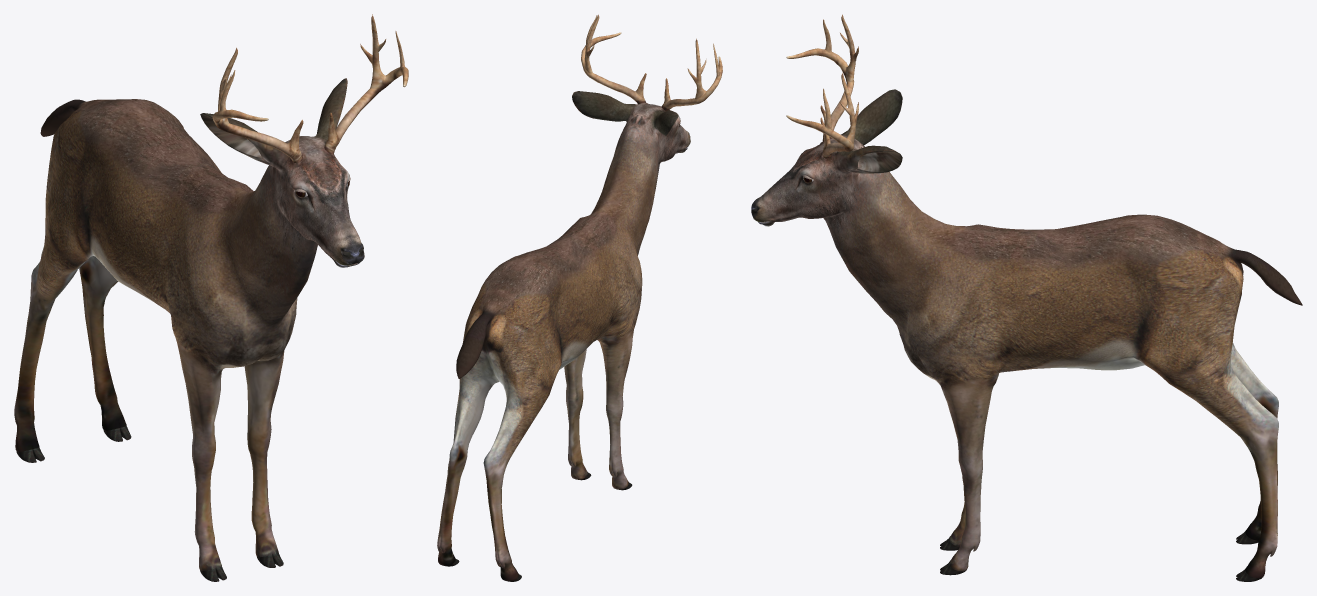
File: deer.glb
The picture shows the model from 3 angles, left to right: view 1: azimuth 30°, elevation 25°; view 2: azimuth 150°, elevation 25°; view 3: azimuth 270°, elevation 25°; orthographic projection. The views are drawn at different scales.
Parts seen in each view (by area): view 1: Pelvis_Mesh; view 2: Pelvis_Mesh; view 3: Pelvis_Mesh.
Part boxes in pixels (x1=…): Pelvis_Mesh: x1=14, y1=14, x2=408, y2=581; Pelvis_Mesh: x1=437, y1=14, x2=722, y2=581; Pelvis_Mesh: x1=751, y1=14, x2=1302, y2=581.
Bounding box in the file's own units: 0.175 × 0.5211 × 0.5049.
2 materials, 2 textured.
